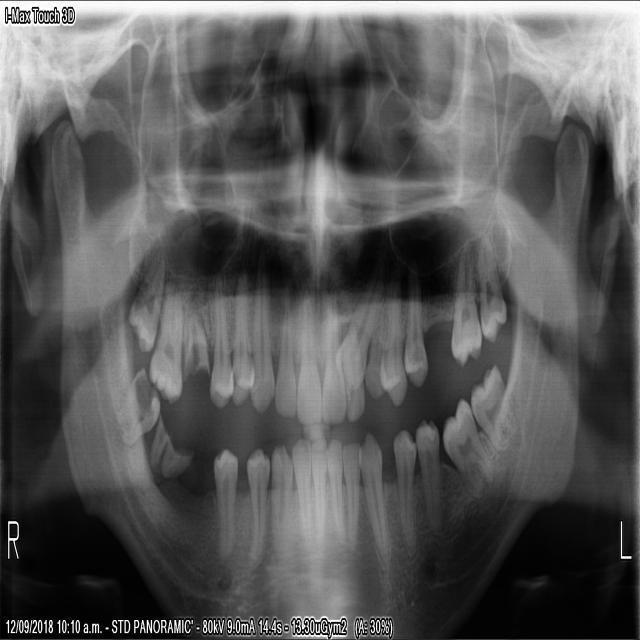LCD: (340, 442, 360, 548)
LCU: (335, 278, 383, 397)
LID: (326, 438, 346, 542), (311, 439, 327, 542)
LIU: (321, 292, 346, 428)
LMD: (442, 399, 495, 500), (467, 359, 520, 453), (415, 420, 446, 540)
LMU: (448, 247, 483, 370), (476, 228, 506, 347), (404, 279, 428, 387)
LPMD: (360, 428, 389, 557), (392, 429, 417, 542)
LPMU: (364, 285, 395, 394), (380, 289, 409, 404)
RCD: (246, 443, 271, 567)
RCU: (250, 273, 274, 413)
RID: (269, 442, 291, 552), (291, 432, 313, 540)
RIU: (295, 278, 321, 428), (272, 289, 296, 424)
RMD: (113, 360, 163, 448), (146, 414, 192, 485)
RMU: (145, 280, 183, 404), (125, 257, 163, 357), (181, 287, 210, 384)
RPMD: (212, 444, 237, 555)
RPMU: (230, 270, 252, 405), (209, 278, 230, 410)
